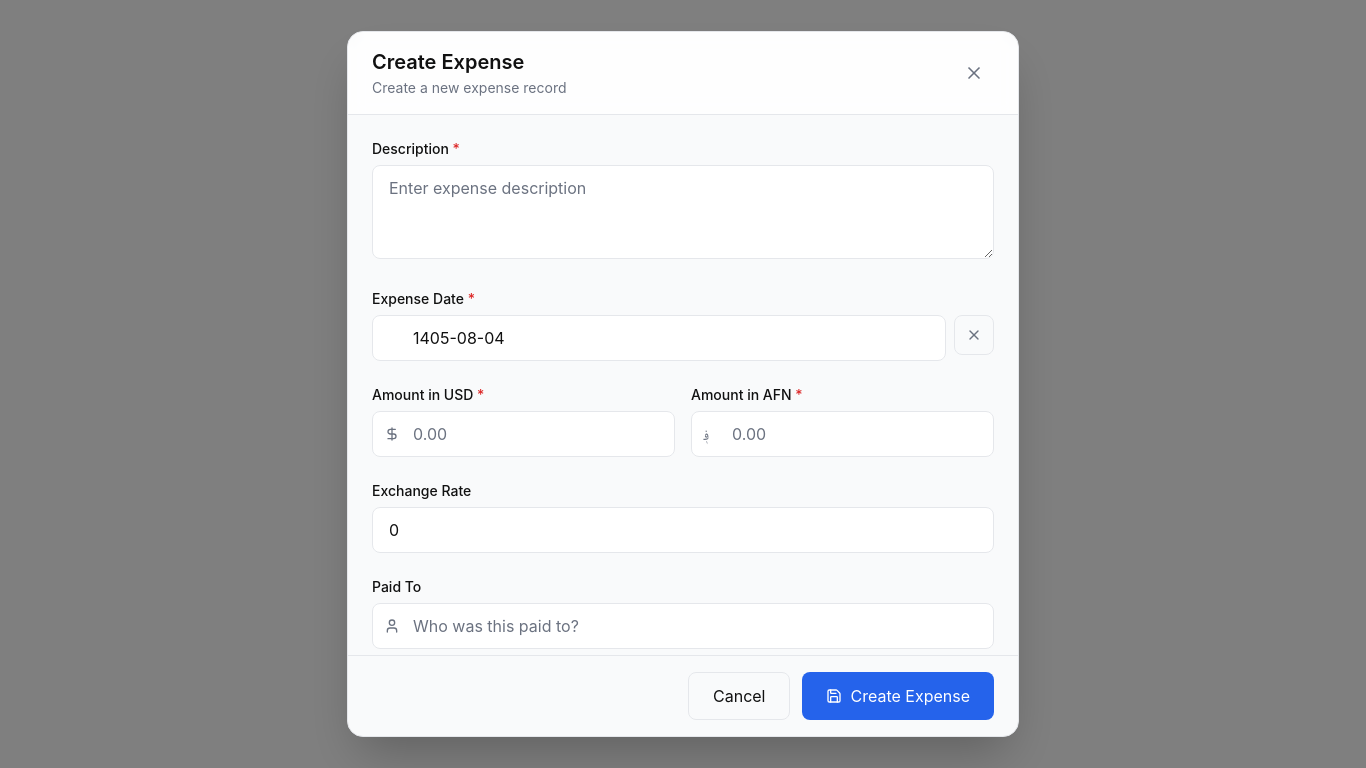
ExpenseCreateModal › requires a project for project expenses
This screenshot has width=1366, height=768.
Type "Concrete" into the text box with placeholder "Enter expense description".
click(683, 212); type("Concrete")  # box [372,165,994,259]
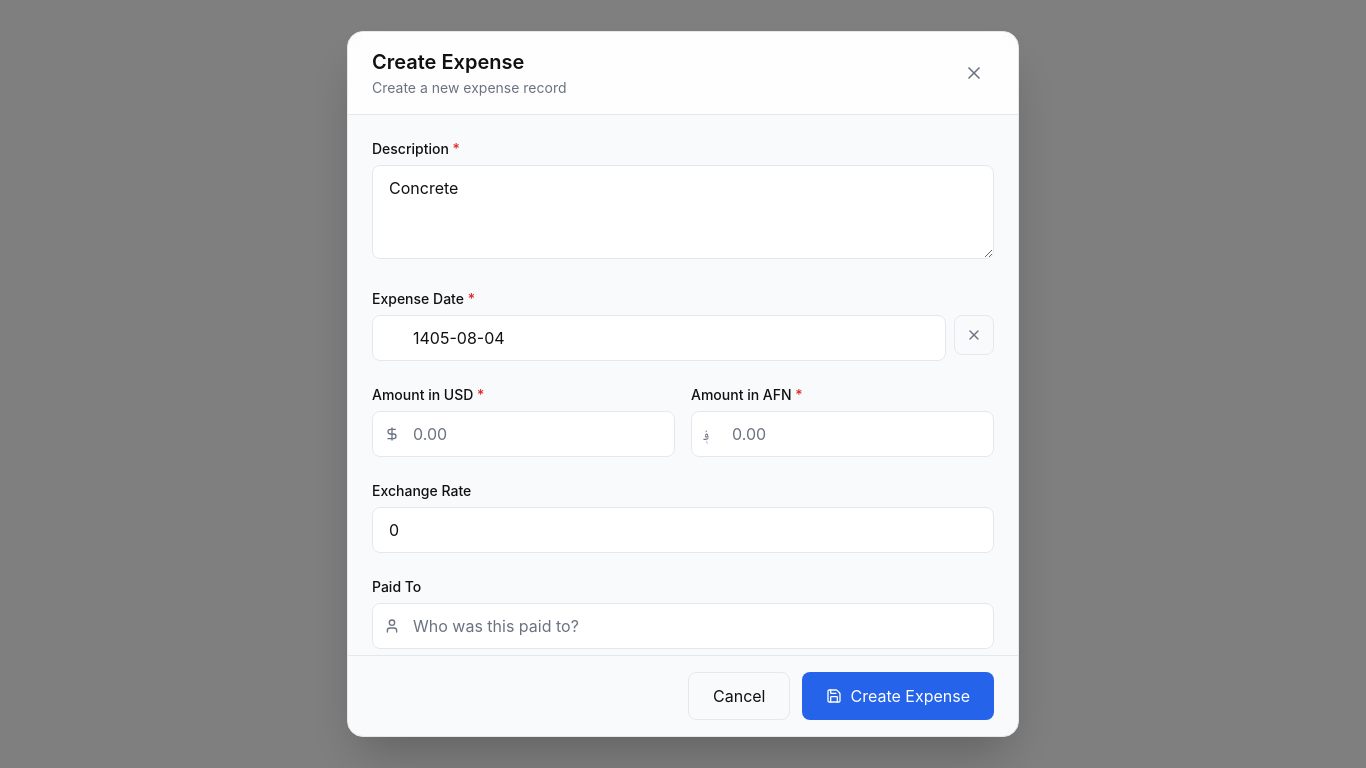
Type "200" into the number field with placeholder "0.00" below "Amount in USD".
click(524, 434); type("200")  # box [372,411,675,457]
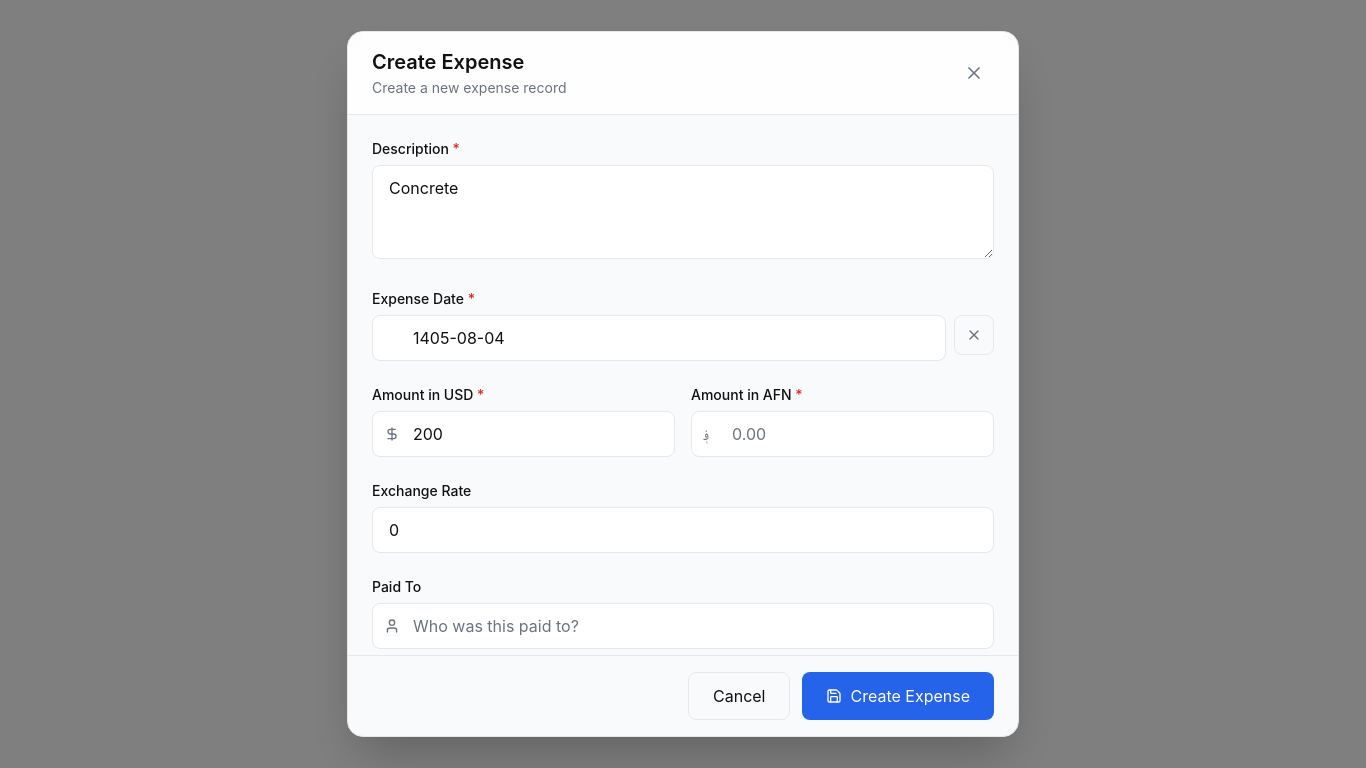
Click the button "Create Expense".
click(898, 696)  # box [802,672,994,720]
(page scrolled)
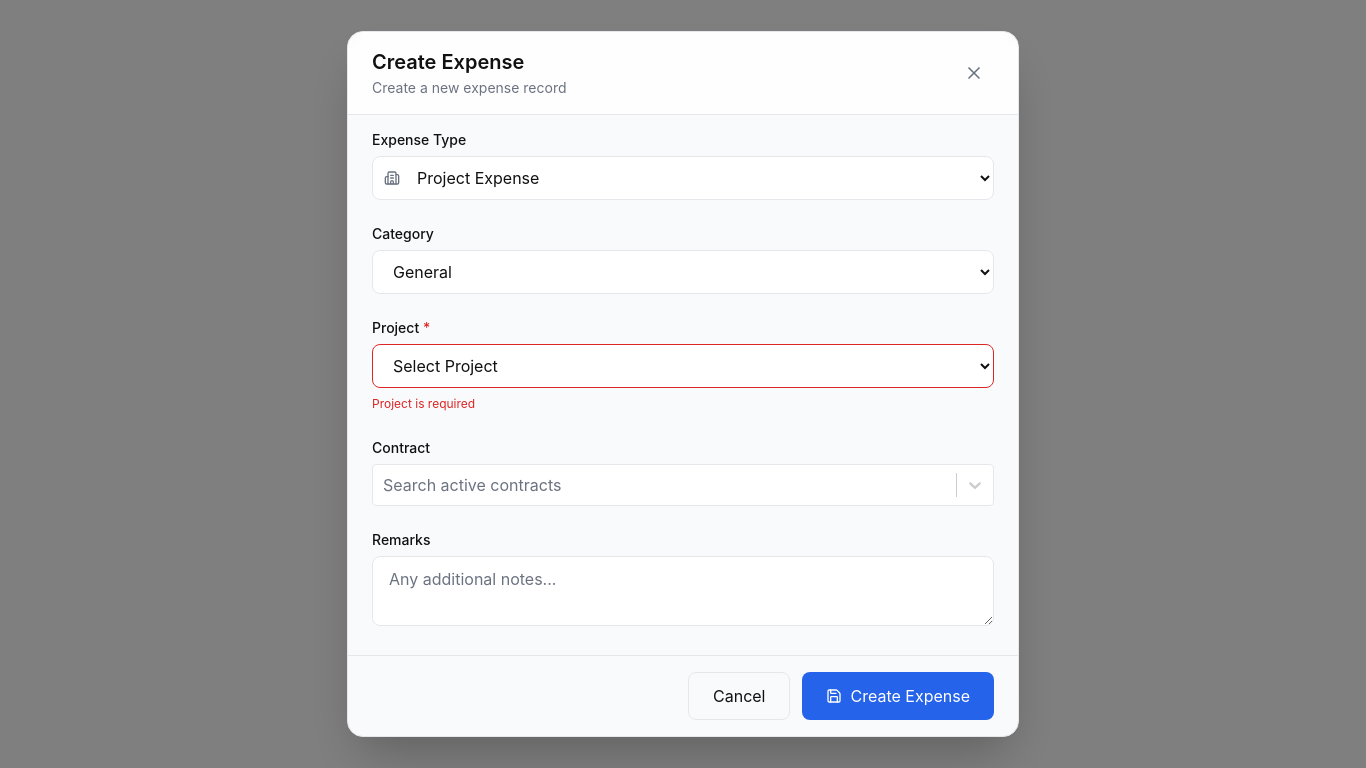
Check: the text "Project is required" is shown, box [372,396,475,411]
